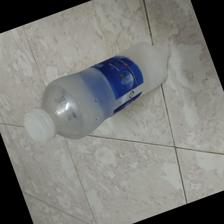Aquafina: (20, 38, 173, 144)
